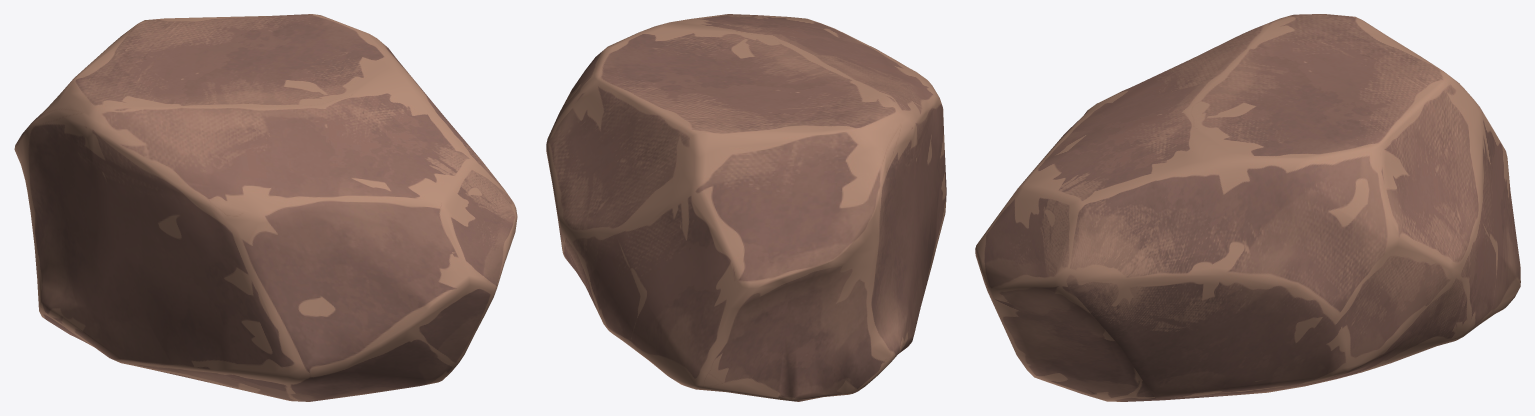
File: roche4 texturée.FBX
3 renders of one model, left to right at view 1: azimuth 30°, elevation 25°; view 2: azimuth 150°, elevation 25°; view 3: azimuth 270°, elevation 25°, orthographic. The views are drawn at different scales.
Parts seen in each view (by area): view 1: Group30500; view 2: Group30500; view 3: Group30500.
Part boxes in pixels (<box>): Group30500: <box>14,14,517,401</box>; Group30500: <box>546,14,946,401</box>; Group30500: <box>975,14,1520,401</box>.
Bounding box in the file's own units: 116 × 82.08 × 149.
Materials: 1 (1 with a texture image).
